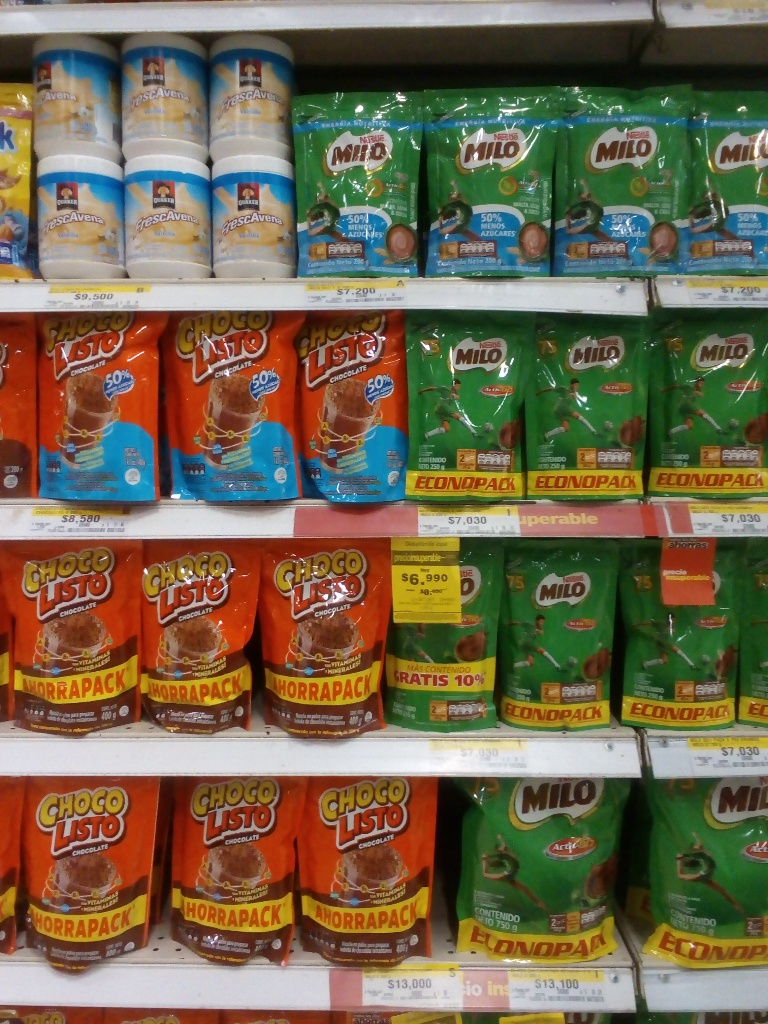COL0170103DYP40000: (7, 539, 138, 737)
COL0170203DYP25000: (411, 312, 526, 504)
COL0170205DYP20000: (291, 91, 420, 277)
